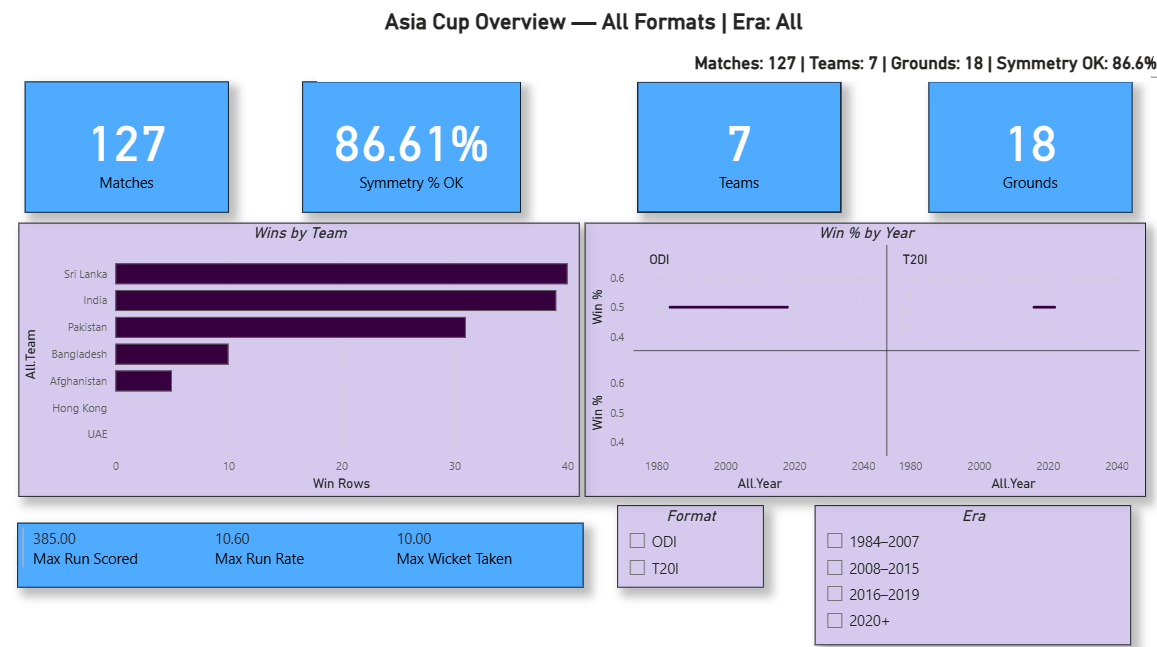

Layout of this report page (visuals, bound fields, positions):
{"tool":"powerbi","page":{"name":"Overview","canvas":[1280,720],"ordinal":0},"visuals":[{"type":"card","fields":{"Values":["MatchesLong.Matches"]},"box":[32,96,224,144],"z":0},{"type":"card","fields":{"Values":["MatchesLong.Symmetry % OK"]},"box":[336,96,240,144],"z":1000},{"type":"card","fields":{"Values":["MatchesLong.Teams"]},"box":[704,96,224,144],"z":2000},{"type":"card","fields":{"Values":["MatchesLong.Grounds"]},"box":[1024,96,224,144],"z":3000},{"type":"clusteredBarChart","title":"Wins by Team","fields":{"Category":["MatchesLong.All.Team"],"Y":["MatchesLong.Win Rows"]},"box":[24.4,251.4,616.1,300.5],"z":4000},{"type":"lineChart","title":"Win % by Year","fields":{"Category":["MatchesLong.All.Year"],"Y":["MatchesLong.Win %"],"Rows":["MatchesLong.All.Format"]},"box":[646,251.4,616.1,300.5],"z":5000},{"type":"multiRowCard","fields":{"Values":["MatchesLong.Max Run Scored","MatchesLong.Max Run Rate","MatchesLong.Max Wicket Taken"]},"box":[23.3,580.2,621.6,71.4],"z":6000},{"type":"slicer","title":"Format","fields":{"Values":["MatchesLong.All.Format"]},"box":[682,561,160.5,90.6],"z":7000},{"type":"slicer","title":"Era","fields":{"Values":["MatchesLong.All.Era"]},"box":[898.8,561,347.2,153.7],"z":8000},{"type":"textbox","box":[192,16,928,32],"z":9000},{"type":"textbox","box":[352,64,928,32],"z":10000}]}

Visuals, with their boxes in screenshot pixels (x1, y1, x2, y2), scaled from the page's 1280x720 canvas onto the 1157x647 screenshot:
card - MatchesLong.Matches: bbox=(29, 86, 231, 216)
card - MatchesLong.Symmetry % OK: bbox=(304, 86, 521, 216)
card - MatchesLong.Teams: bbox=(636, 86, 839, 216)
card - MatchesLong.Grounds: bbox=(926, 86, 1128, 216)
"Wins by Team" clusteredBarChart: bbox=(22, 226, 579, 496)
"Win % by Year" lineChart: bbox=(584, 226, 1141, 496)
multiRowCard - MatchesLong.Max Run Scored x MatchesLong.Max Run Rate: bbox=(21, 521, 583, 586)
"Format" slicer: bbox=(616, 504, 762, 586)
"Era" slicer: bbox=(812, 504, 1126, 642)
textbox: bbox=(174, 14, 1012, 43)
textbox: bbox=(318, 58, 1156, 86)
